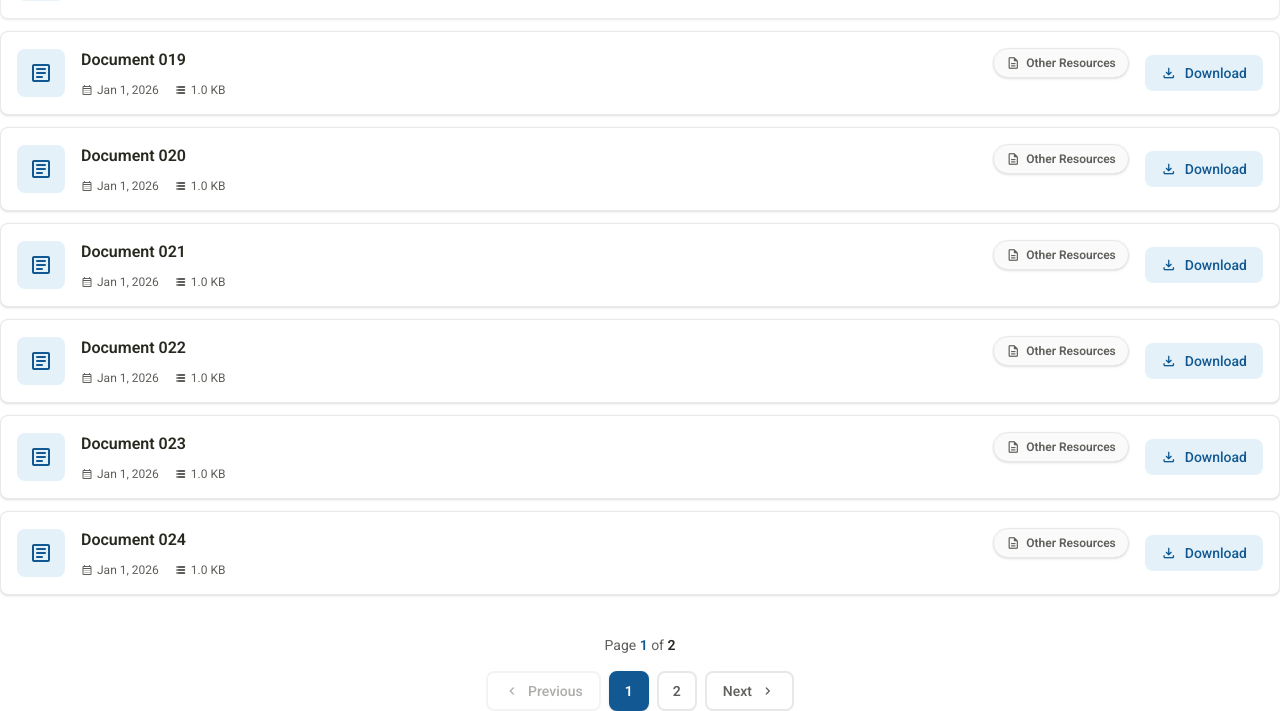
Test case: ResourceList › renders the remaining documents and updates the URL on the next page
The width and height of the screenshot is (1280, 711).
(page scrolled)
Click the button with aria-label "Next page": (749, 691) [705,671,794,710]
(page scrolled)
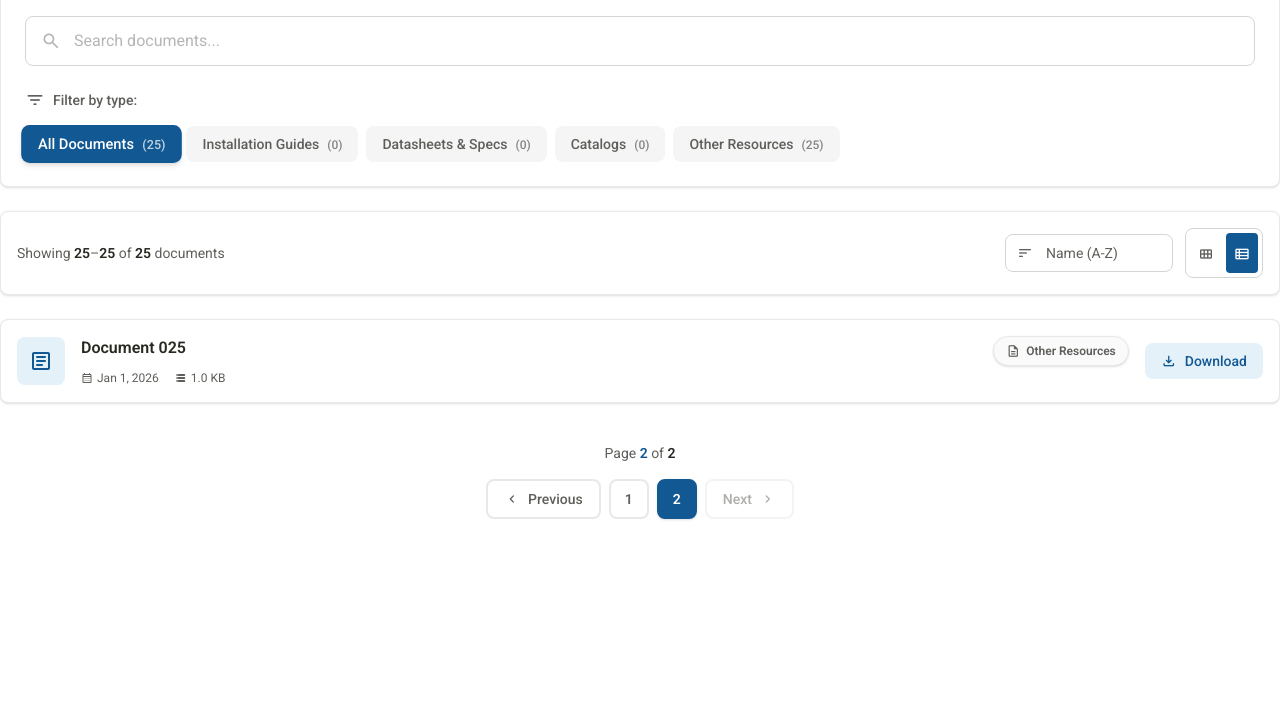
Now the number of links is 1, box [0,319,1279,403]
Now the heading "Document 025" is shown, box [81,338,186,357]
